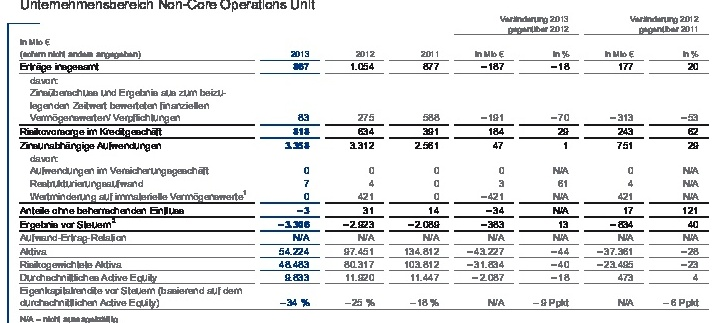table: (0, 0, 725, 323)
